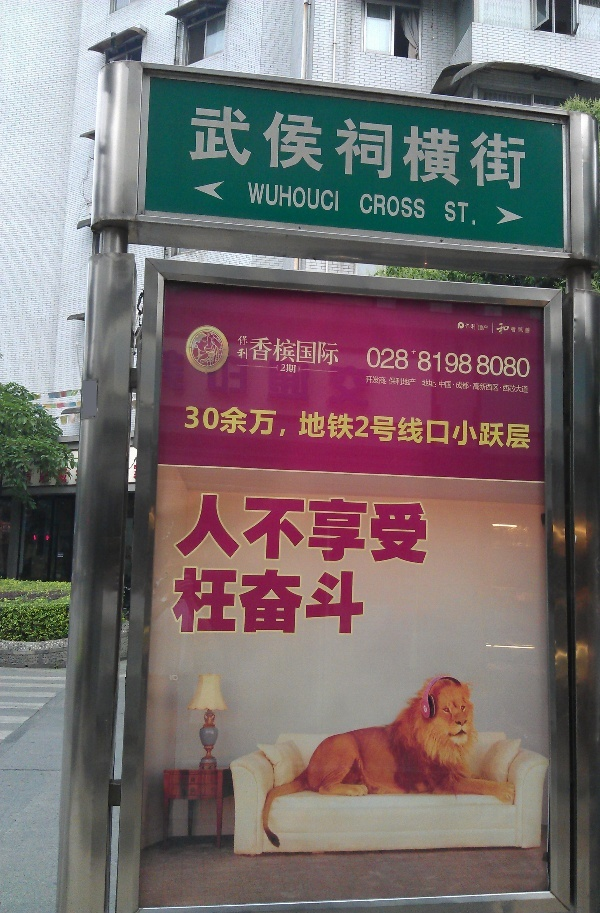text: (513, 101, 529, 194), (193, 101, 208, 194), (209, 101, 224, 194), (225, 101, 240, 194), (241, 101, 256, 194), (257, 101, 272, 194), (273, 101, 288, 194), (289, 101, 304, 194), (305, 101, 320, 194), (321, 101, 336, 194), (337, 101, 352, 194), (353, 101, 368, 194), (369, 101, 384, 194), (385, 101, 400, 194), (401, 101, 416, 194), (417, 101, 432, 194), (433, 101, 448, 194), (449, 101, 464, 194), (465, 101, 480, 194), (481, 101, 496, 194), (497, 101, 512, 194), (177, 491, 192, 565), (193, 491, 208, 565), (209, 491, 224, 565), (225, 491, 240, 565), (241, 491, 256, 565), (257, 491, 272, 565), (273, 491, 288, 565), (289, 491, 304, 565), (305, 491, 320, 565), (321, 491, 336, 565), (337, 491, 352, 565), (353, 491, 368, 565), (369, 491, 384, 565), (385, 491, 400, 565), (401, 491, 416, 565), (177, 565, 192, 637), (193, 565, 208, 637), (209, 565, 224, 637), (225, 565, 240, 637), (241, 565, 256, 637), (257, 565, 272, 637), (273, 565, 288, 637), (289, 565, 304, 637), (305, 565, 320, 637), (321, 565, 336, 637), (337, 565, 352, 637), (417, 491, 430, 565), (353, 565, 366, 637), (193, 404, 208, 450), (209, 404, 224, 450), (225, 404, 240, 450), (241, 404, 256, 450), (257, 404, 272, 450), (273, 404, 288, 450), (289, 404, 304, 450), (305, 404, 320, 450), (321, 404, 336, 450), (337, 404, 352, 450), (353, 404, 368, 450), (369, 404, 384, 450), (385, 404, 400, 450), (401, 404, 416, 450), (417, 404, 432, 450), (433, 404, 448, 450), (449, 404, 464, 450), (465, 404, 480, 450), (481, 404, 496, 450), (497, 404, 512, 450), (513, 404, 528, 450), (257, 181, 272, 214), (273, 181, 288, 214), (289, 181, 304, 214), (305, 181, 320, 214), (321, 181, 336, 214), (257, 335, 272, 367), (273, 335, 288, 367), (289, 335, 304, 367), (305, 335, 320, 367), (321, 335, 336, 367), (369, 191, 384, 223), (385, 191, 400, 223), (401, 191, 416, 223), (449, 198, 464, 227), (433, 350, 448, 376), (449, 350, 464, 376), (481, 354, 496, 380), (497, 354, 512, 380), (513, 354, 528, 380), (417, 191, 429, 223), (465, 198, 478, 227), (369, 347, 384, 371), (385, 347, 400, 371), (419, 350, 432, 376), (247, 181, 256, 214), (186, 404, 192, 450), (401, 347, 411, 371), (513, 379, 529, 394), (33, 469, 48, 485), (49, 469, 64, 485), (465, 350, 474, 376), (497, 322, 512, 337), (513, 322, 528, 337), (433, 379, 448, 394), (449, 379, 464, 394), (465, 379, 480, 394), (481, 379, 496, 394), (497, 379, 512, 394), (173, 565, 176, 637), (65, 469, 78, 485), (241, 335, 249, 360), (337, 181, 343, 214), (250, 335, 256, 367), (401, 375, 417, 387), (362, 191, 368, 223), (369, 375, 384, 387), (385, 375, 400, 387), (21, 469, 32, 485), (422, 379, 432, 394), (289, 363, 301, 374), (135, 465, 144, 479), (277, 363, 288, 374), (465, 323, 480, 331), (337, 335, 340, 367), (529, 404, 531, 450), (445, 198, 448, 227), (529, 354, 532, 380), (481, 323, 489, 331), (478, 354, 480, 380), (238, 335, 240, 360), (529, 322, 531, 337), (367, 347, 368, 371), (366, 375, 368, 387), (412, 349, 416, 355)
